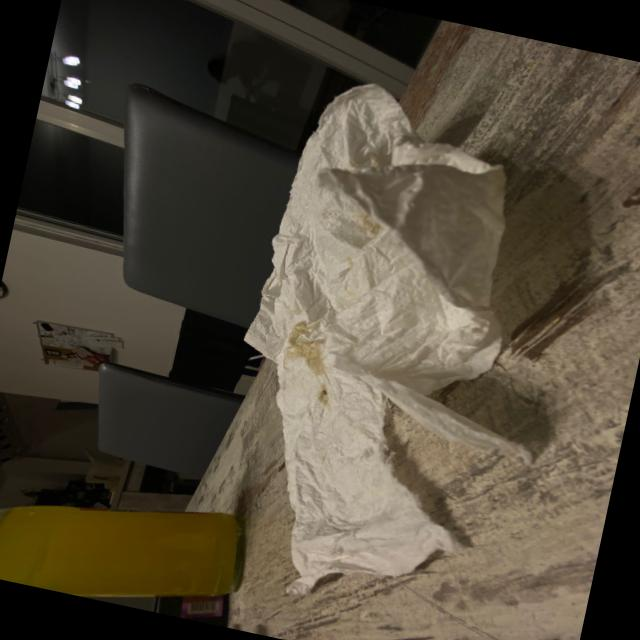organic waste: (187, 64, 604, 638)
